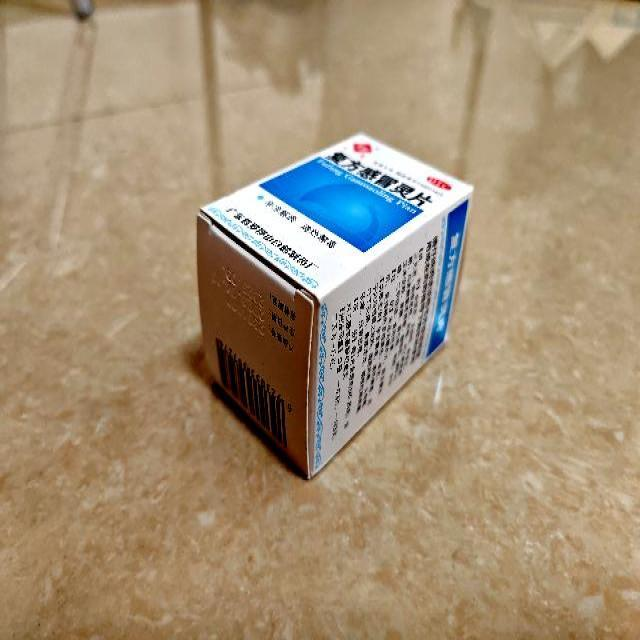box: (198, 133, 474, 480)
